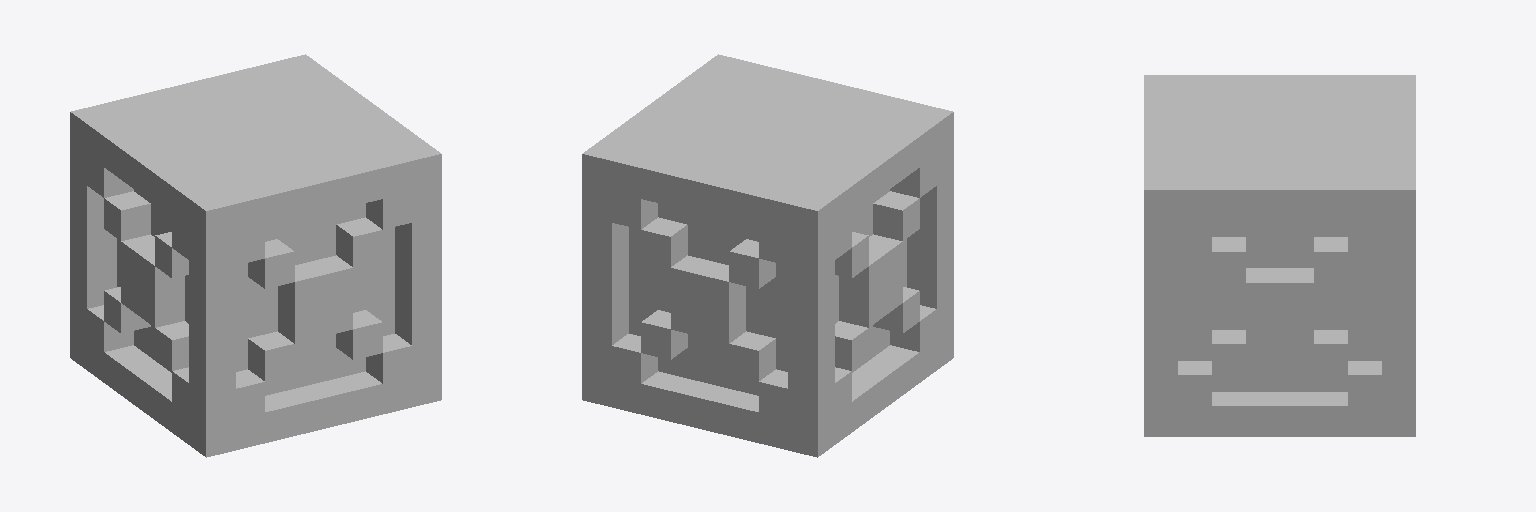
Rendered from Wood_Box.obj.
3 renders of one model, left to right at view 1: azimuth 30°, elevation 25°; view 2: azimuth 150°, elevation 25°; view 3: azimuth 270°, elevation 25°, orthographic.
Visible parts, largest first — view 1: object 1; view 2: object 1; view 3: object 1.
Part boxes in pixels (x1,y1,x2,y2): object 1: (70,54,441,457); object 1: (582,54,953,457); object 1: (1144,75,1415,436).
Size of the model in its own units: 0.8 by 0.8 by 0.8.